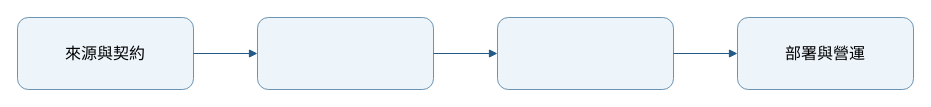
Image size: 931x107. Some labels were removed from this diagram. The centre of each missing label's shape, as x and y in pixels:
CI 建置與測試: the point at 345,53
證據與成品庫: the point at 585,53
